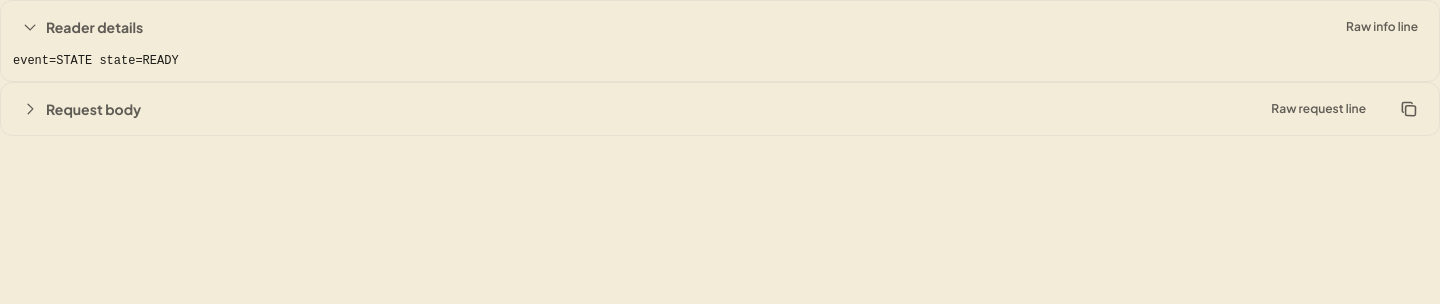
Test: Log Viewer payload panels › shows reader info immediately when requested while keeping other payload panels collapsed
Expected: the text "event=STATE state=READY" is shown, [13,54,179,68]
Click the button "Reader details": (95, 27) [9,5,1325,49]
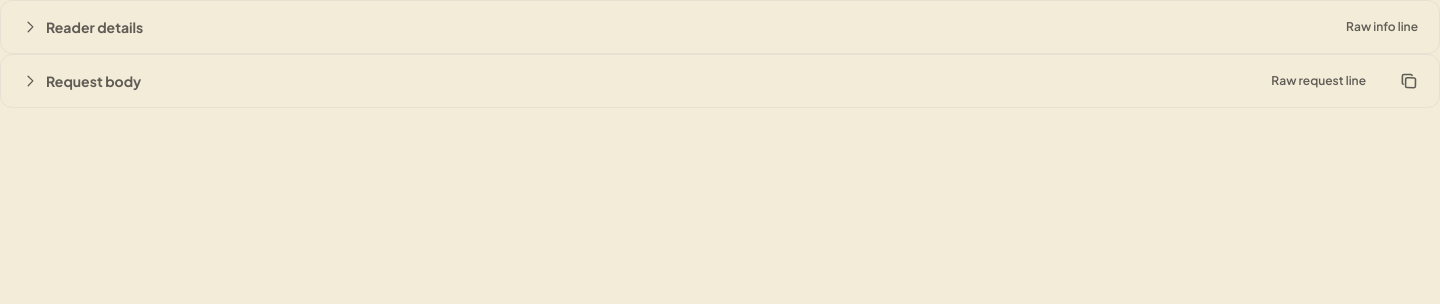
Expected: the text "event=STATE state=READY" is gone
Click the button "Raw info line": (1382, 27) [1333,5,1431,49]
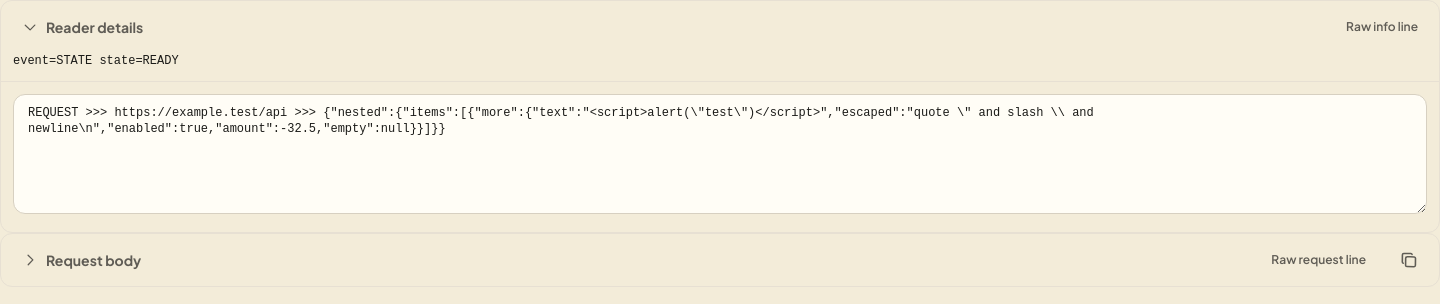
Expected: the text "event=STATE state=READY" is shown, [13,54,179,68]
